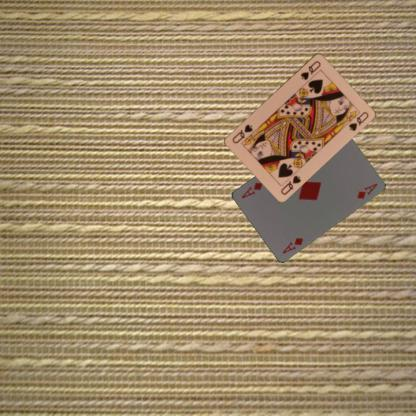Ad: (280, 234, 305, 254)
Qs: (278, 172, 302, 196), (298, 58, 322, 81)
